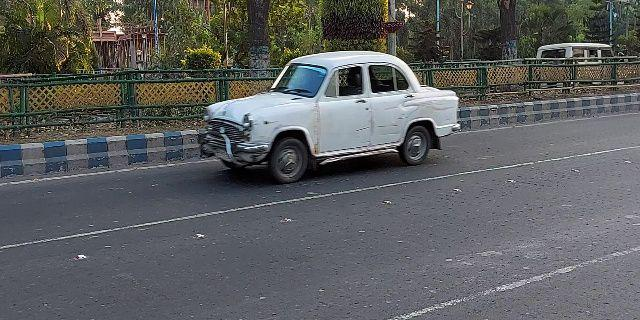Car: (199, 45, 462, 184)
